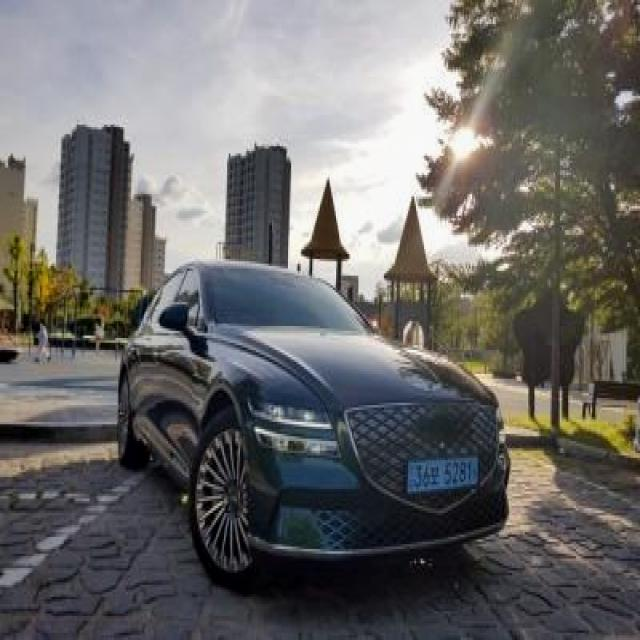EV_plate: (412, 456, 478, 498)
car: (113, 256, 513, 580)
